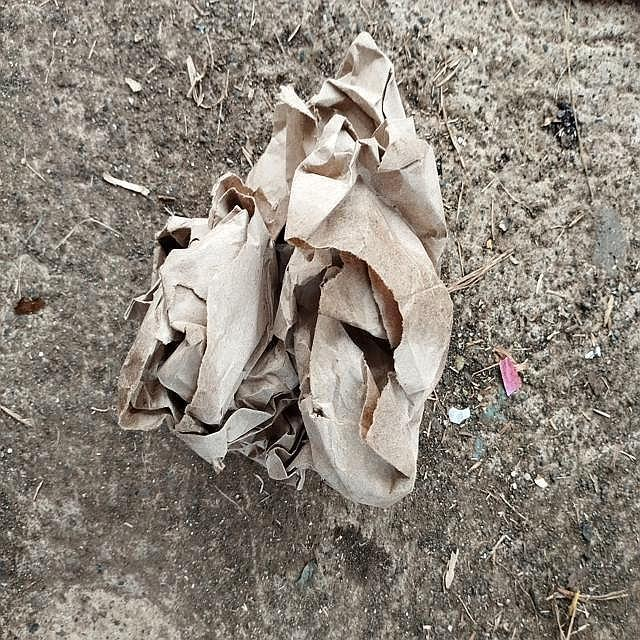Biodegradable: (118, 34, 453, 510)
